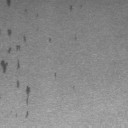red iron: (16, 80, 30, 106), (8, 45, 20, 54), (0, 60, 8, 73), (6, 0, 12, 8), (8, 29, 12, 36), (54, 72, 57, 80), (25, 112, 29, 118), (69, 4, 72, 11), (23, 35, 26, 42), (18, 60, 20, 68)
